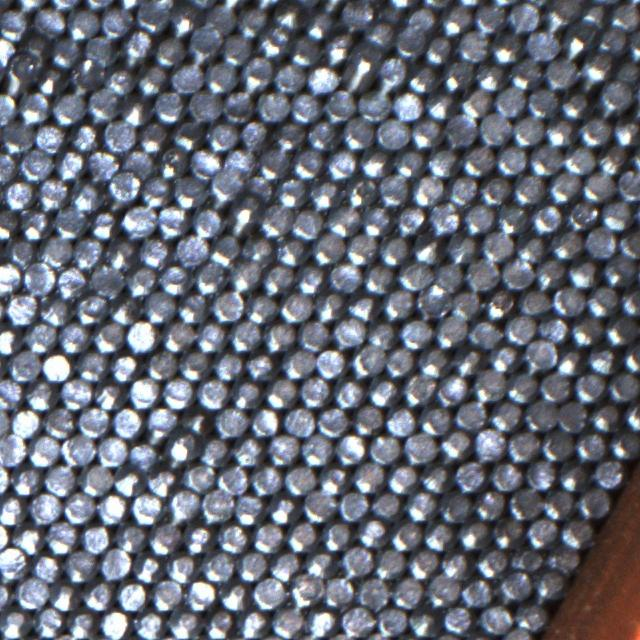tool: (372, 545, 407, 579), (419, 458, 454, 492), (496, 568, 531, 602), (31, 604, 66, 638), (376, 172, 411, 206), (438, 426, 472, 461), (204, 60, 238, 94), (586, 282, 620, 316), (60, 432, 94, 466), (283, 462, 317, 496), (508, 486, 542, 520), (525, 514, 559, 548), (158, 262, 192, 296), (284, 518, 318, 552), (438, 488, 472, 522), (523, 457, 557, 491), (404, 487, 438, 521), (102, 118, 136, 152), (512, 171, 546, 205), (556, 398, 590, 432), (454, 457, 488, 491), (488, 458, 522, 492), (200, 548, 234, 582), (434, 314, 468, 348), (598, 78, 632, 112), (169, 61, 203, 95), (578, 112, 612, 146), (148, 520, 182, 554), (509, 56, 543, 90), (472, 368, 506, 402), (541, 486, 575, 520), (558, 458, 592, 492), (310, 230, 344, 264), (210, 288, 244, 322), (477, 112, 511, 146), (44, 520, 78, 554), (524, 28, 558, 62), (296, 318, 330, 352), (398, 315, 432, 349), (464, 257, 498, 291), (322, 88, 356, 122), (21, 261, 55, 295), (462, 200, 496, 234), (388, 518, 422, 552), (426, 572, 460, 606), (169, 118, 203, 152), (74, 291, 108, 325), (427, 144, 461, 178), (227, 258, 261, 292), (270, 603, 304, 637), (414, 285, 448, 319), (451, 342, 485, 376), (290, 146, 324, 180), (166, 488, 200, 522), (82, 35, 116, 69), (583, 224, 617, 258), (569, 311, 603, 345), (267, 490, 301, 524), (444, 230, 478, 264), (172, 174, 206, 208), (392, 200, 426, 234), (574, 428, 608, 462), (442, 112, 476, 146), (224, 201, 258, 235), (489, 29, 524, 62), (472, 426, 505, 461), (366, 432, 401, 465), (44, 462, 78, 495), (375, 56, 408, 90), (357, 574, 390, 608), (122, 203, 155, 237), (200, 488, 233, 522), (228, 318, 261, 352), (28, 490, 61, 524), (488, 398, 522, 431), (182, 458, 215, 492), (456, 28, 489, 62), (124, 263, 158, 296), (152, 88, 185, 122), (457, 516, 490, 550), (262, 318, 295, 352), (5, 290, 38, 324), (604, 312, 638, 345), (448, 288, 482, 321), (538, 368, 571, 402), (251, 520, 284, 554), (422, 518, 456, 551), (194, 318, 227, 352), (524, 397, 557, 431), (438, 2, 472, 35), (32, 5, 65, 39), (118, 31, 152, 64), (472, 487, 506, 520), (7, 406, 41, 439), (99, 4, 132, 38), (302, 488, 335, 522), (187, 89, 220, 123), (320, 517, 354, 550), (486, 341, 520, 374), (233, 491, 266, 525), (278, 288, 311, 322), (460, 574, 493, 608), (49, 34, 82, 68), (480, 229, 513, 263), (351, 343, 384, 377), (601, 254, 634, 288), (144, 346, 178, 379), (220, 89, 254, 122), (53, 204, 86, 238), (410, 231, 443, 265), (511, 113, 544, 147), (530, 142, 563, 176), (65, 5, 98, 39), (402, 372, 436, 405), (476, 545, 510, 578), (160, 318, 194, 351), (26, 433, 59, 467), (34, 177, 68, 210), (234, 2, 267, 36), (472, 1, 506, 34), (325, 146, 358, 180), (192, 260, 226, 293), (339, 544, 372, 578), (505, 368, 538, 402), (446, 173, 479, 207), (208, 170, 242, 203), (514, 230, 547, 264), (58, 376, 92, 409), (303, 547, 337, 580), (142, 289, 176, 322), (391, 574, 424, 608), (151, 576, 184, 610), (478, 601, 512, 634), (127, 375, 161, 408), (491, 515, 524, 549), (177, 290, 210, 324), (540, 428, 574, 461), (442, 602, 476, 635), (416, 343, 449, 377), (495, 142, 528, 176), (544, 56, 577, 90), (427, 200, 461, 233), (418, 402, 452, 435), (89, 262, 122, 296), (362, 18, 396, 51), (274, 175, 308, 208), (509, 542, 544, 574), (339, 604, 374, 636), (423, 88, 458, 120), (560, 23, 592, 58), (132, 607, 165, 640), (553, 283, 586, 316), (386, 461, 419, 494), (235, 607, 268, 640), (359, 203, 392, 236), (565, 197, 598, 230), (454, 398, 487, 431), (125, 319, 158, 352), (526, 85, 559, 118), (573, 369, 606, 402), (332, 315, 365, 348), (16, 90, 49, 123), (205, 119, 238, 152), (607, 369, 640, 402), (300, 432, 333, 465), (600, 197, 633, 230), (590, 399, 623, 432), (479, 172, 512, 205), (288, 574, 321, 607), (298, 374, 331, 407), (75, 349, 108, 382), (137, 235, 170, 268), (104, 237, 137, 270), (587, 341, 620, 374), (167, 607, 200, 640), (15, 575, 48, 608), (218, 577, 251, 610), (567, 255, 600, 288), (506, 428, 539, 461), (163, 433, 196, 466), (530, 200, 563, 233), (39, 293, 72, 326), (172, 234, 206, 266), (80, 462, 112, 496), (70, 236, 104, 268), (334, 432, 366, 466), (382, 286, 414, 320), (577, 486, 611, 518), (136, 60, 168, 94), (408, 59, 440, 93), (462, 142, 494, 176), (484, 286, 516, 320), (358, 88, 390, 122), (376, 116, 408, 150), (208, 232, 240, 266), (55, 265, 87, 299), (144, 406, 176, 440), (378, 231, 410, 265), (1, 120, 33, 154), (562, 144, 596, 176), (344, 230, 376, 264), (282, 404, 316, 436), (332, 376, 366, 408), (322, 574, 354, 608), (308, 176, 342, 208), (272, 118, 306, 150), (62, 490, 94, 524), (92, 318, 124, 352), (392, 88, 424, 122), (246, 348, 278, 382), (196, 376, 228, 410), (496, 200, 528, 234), (98, 548, 132, 580), (342, 115, 374, 149), (256, 26, 290, 58), (560, 86, 592, 120), (203, 606, 235, 640), (407, 604, 441, 636), (508, 0, 542, 32), (578, 52, 612, 84), (268, 548, 300, 582), (216, 520, 248, 554), (190, 204, 222, 238), (188, 28, 220, 62), (24, 378, 58, 410), (344, 172, 376, 206), (352, 402, 384, 436), (240, 57, 272, 91), (306, 604, 338, 638), (165, 550, 197, 584), (439, 548, 473, 580), (401, 8, 435, 40), (342, 56, 374, 90), (514, 600, 548, 632), (67, 58, 101, 90), (500, 257, 532, 290), (384, 344, 416, 377), (130, 491, 162, 524), (306, 118, 339, 150), (257, 88, 289, 121), (274, 60, 306, 93), (212, 349, 245, 381), (336, 488, 368, 521), (4, 234, 36, 267), (282, 346, 314, 379), (232, 433, 264, 466), (245, 291, 277, 324), (362, 261, 395, 293), (80, 521, 112, 554), (548, 169, 580, 202), (250, 462, 282, 495), (475, 58, 508, 90), (581, 170, 614, 202), (95, 492, 128, 524), (262, 261, 294, 294), (328, 260, 361, 292), (220, 32, 253, 64), (312, 289, 344, 322), (358, 146, 391, 178), (86, 88, 118, 121), (77, 405, 109, 438), (235, 549, 268, 581), (29, 550, 62, 582), (314, 346, 346, 379), (19, 147, 51, 180), (384, 404, 417, 436), (403, 431, 436, 463), (346, 290, 379, 322), (64, 549, 96, 582), (41, 349, 73, 382), (161, 376, 194, 408), (121, 146, 154, 178), (326, 203, 358, 236), (460, 86, 492, 119), (146, 464, 179, 496), (412, 173, 444, 206), (18, 206, 51, 238), (182, 522, 215, 554), (366, 374, 399, 406), (216, 463, 249, 495), (66, 608, 99, 640), (68, 180, 101, 212), (184, 578, 217, 610), (374, 604, 407, 636), (561, 515, 593, 548), (180, 404, 213, 436), (290, 206, 322, 239), (88, 206, 120, 239), (468, 315, 500, 348), (544, 114, 576, 147), (493, 84, 525, 117), (38, 236, 71, 268), (49, 579, 82, 611), (116, 577, 148, 610), (1, 62, 34, 94), (114, 520, 146, 553), (168, 3, 200, 36), (15, 36, 48, 68), (200, 5, 232, 38), (398, 258, 430, 290), (95, 434, 127, 466), (352, 460, 384, 492), (179, 348, 211, 380), (406, 546, 438, 578), (10, 464, 42, 496), (198, 436, 230, 468), (8, 349, 40, 381), (307, 62, 339, 94), (423, 32, 455, 64), (58, 320, 90, 352), (154, 34, 186, 66), (100, 608, 132, 640), (34, 122, 66, 154), (356, 516, 388, 548), (52, 92, 84, 124), (504, 312, 536, 344), (248, 406, 280, 438), (538, 312, 570, 344), (522, 338, 554, 370), (370, 488, 402, 520), (410, 116, 442, 148), (128, 438, 160, 470), (534, 256, 566, 288), (436, 374, 468, 406), (110, 406, 142, 438), (290, 90, 322, 122), (156, 204, 188, 236), (112, 465, 144, 497), (254, 576, 286, 608), (430, 262, 462, 294), (24, 321, 56, 353), (258, 146, 290, 178), (275, 234, 307, 266), (156, 146, 188, 178), (258, 204, 290, 236), (54, 148, 86, 180), (533, 568, 565, 600), (548, 228, 580, 260), (103, 64, 135, 96), (294, 261, 326, 293), (42, 406, 74, 438), (110, 350, 142, 382), (86, 148, 118, 180), (2, 178, 34, 210), (214, 406, 246, 438), (67, 120, 99, 152), (225, 146, 257, 178), (12, 522, 44, 554), (106, 172, 138, 204), (136, 119, 168, 151), (230, 378, 262, 410), (365, 318, 397, 350), (132, 552, 164, 584), (239, 118, 271, 150), (189, 147, 221, 179), (264, 376, 296, 408), (82, 578, 114, 610), (442, 58, 474, 90), (554, 344, 586, 376), (266, 432, 298, 464), (518, 285, 550, 317), (316, 405, 348, 437), (321, 32, 353, 64), (245, 170, 277, 202), (92, 379, 124, 411), (318, 464, 350, 496), (290, 34, 322, 66), (597, 141, 629, 173), (241, 233, 273, 265), (392, 147, 424, 179), (541, 0, 573, 32), (546, 542, 578, 574), (592, 456, 624, 488), (140, 174, 172, 206), (0, 606, 30, 640), (304, 7, 336, 38), (35, 65, 67, 96), (136, 0, 168, 31), (609, 426, 640, 458), (118, 94, 150, 125), (393, 26, 424, 58), (108, 296, 140, 326), (274, 1, 306, 31), (596, 23, 626, 55), (609, 0, 640, 30), (0, 8, 29, 40), (340, 0, 372, 29), (611, 115, 640, 146), (578, 0, 609, 29), (612, 53, 640, 85), (0, 547, 27, 580), (0, 432, 25, 466), (0, 494, 26, 526), (615, 168, 640, 200), (0, 376, 23, 409), (617, 226, 640, 259), (0, 323, 22, 355), (620, 282, 640, 316), (0, 262, 20, 294), (622, 338, 640, 372), (0, 207, 19, 239), (0, 150, 17, 183), (0, 91, 16, 124), (625, 396, 640, 429), (0, 32, 15, 64), (500, 626, 532, 640), (626, 27, 640, 58)
